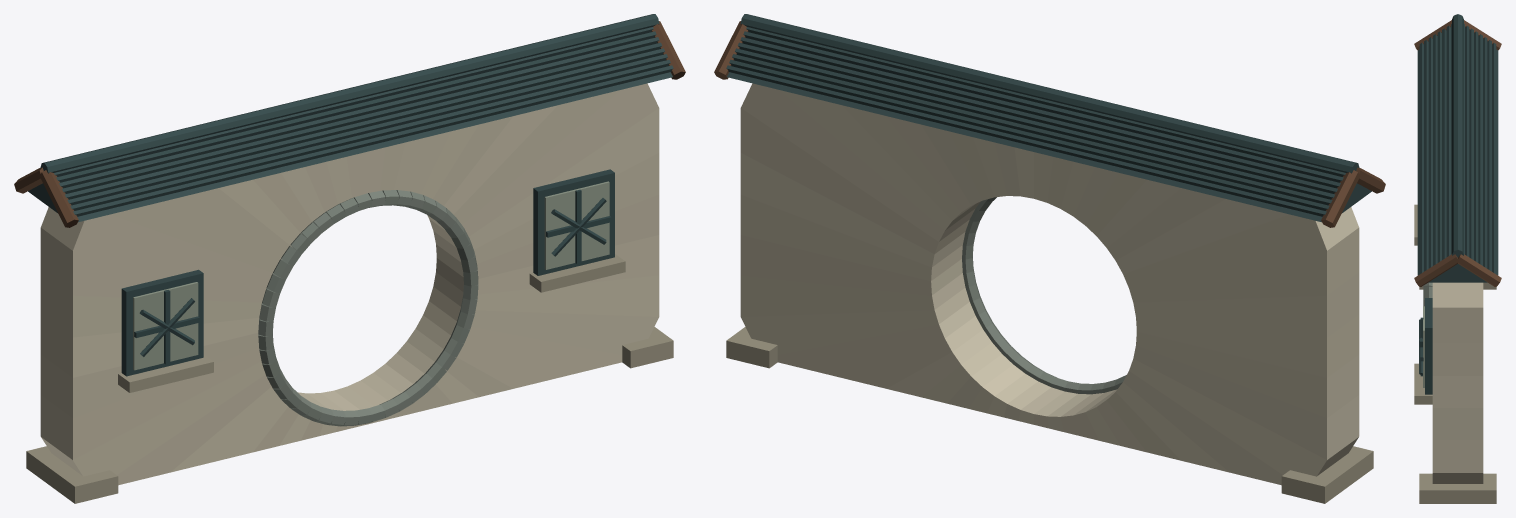
The model's file is build-moon-gate.glb.
3 views of the same model, side by side, from view 1: azimuth 30°, elevation 25°; view 2: azimuth 150°, elevation 25°; view 3: azimuth 270°, elevation 25° (orthographic). The views are drawn at different scales.
Visible parts, largest first — view 1: SculptedModel; view 2: SculptedModel; view 3: SculptedModel.
Part boxes in pixels (bbox=[...]): SculptedModel: bbox=[14, 14, 685, 503]; SculptedModel: bbox=[714, 14, 1385, 503]; SculptedModel: bbox=[1414, 14, 1501, 503].
Size of the model in its own units: 6.01 by 3.02 by 0.9344.
